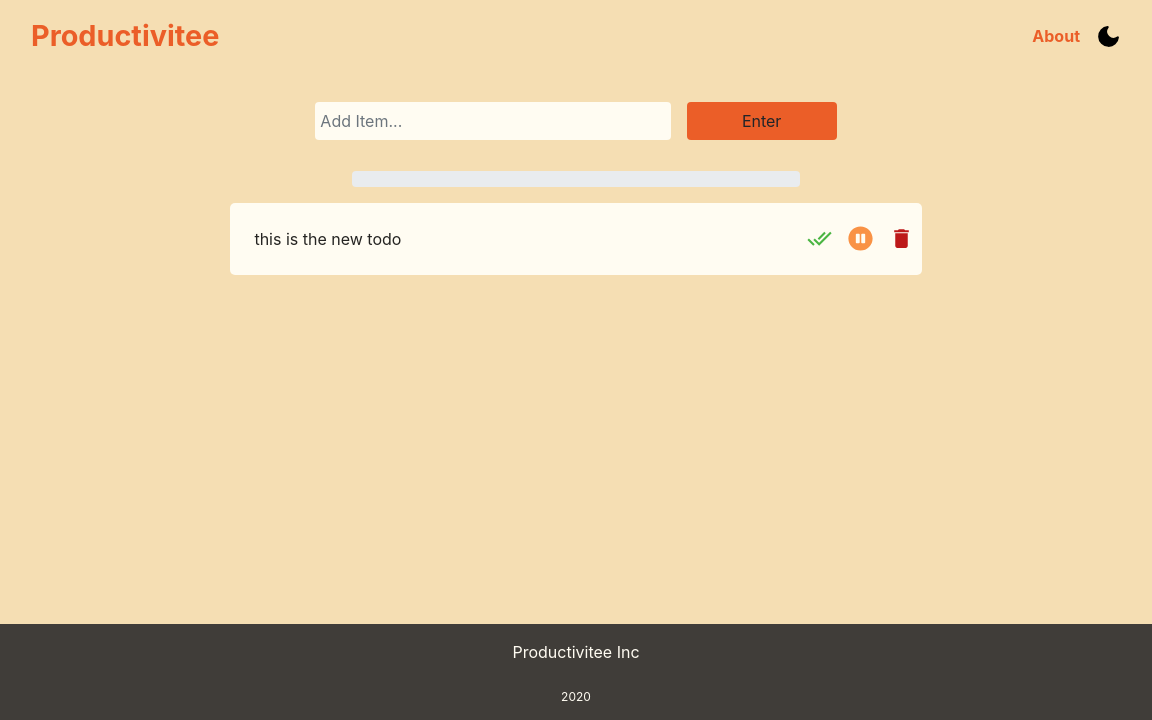
Test: testing the todo application › should delete existing todos
Click the icon with test id "deleteTodoIcon" at (901, 239), box [889, 226, 914, 251]
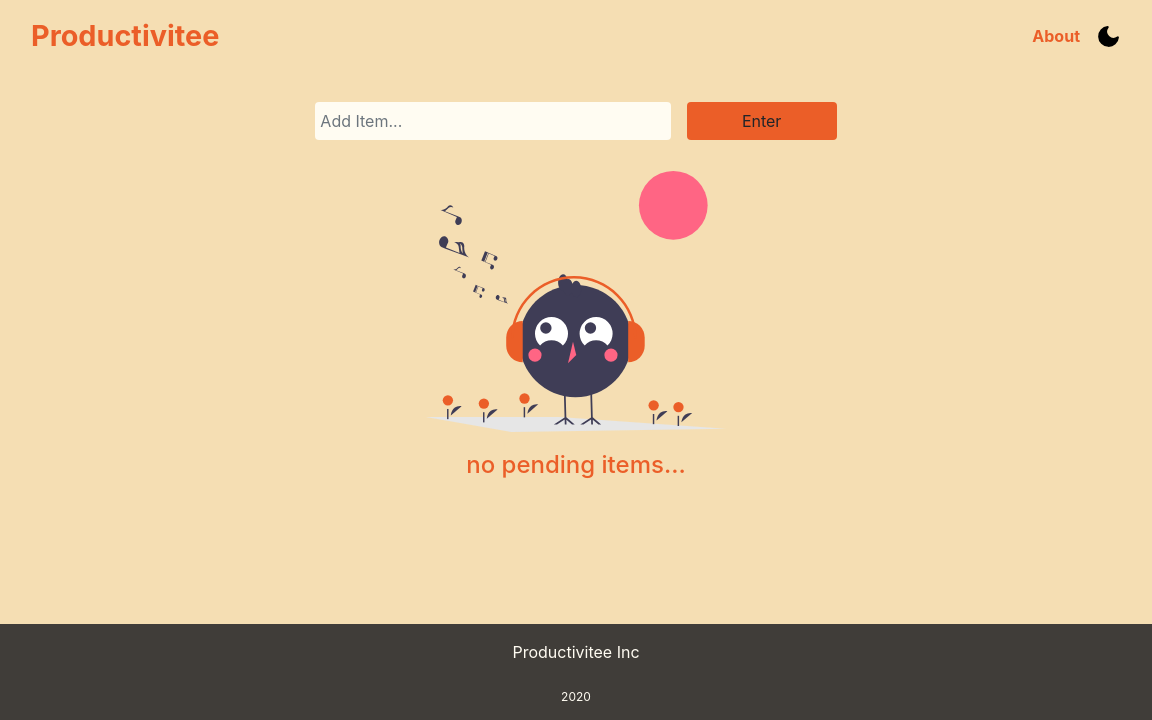
Expected: the heading "no pending items..." is shown, [466, 450, 686, 479]
